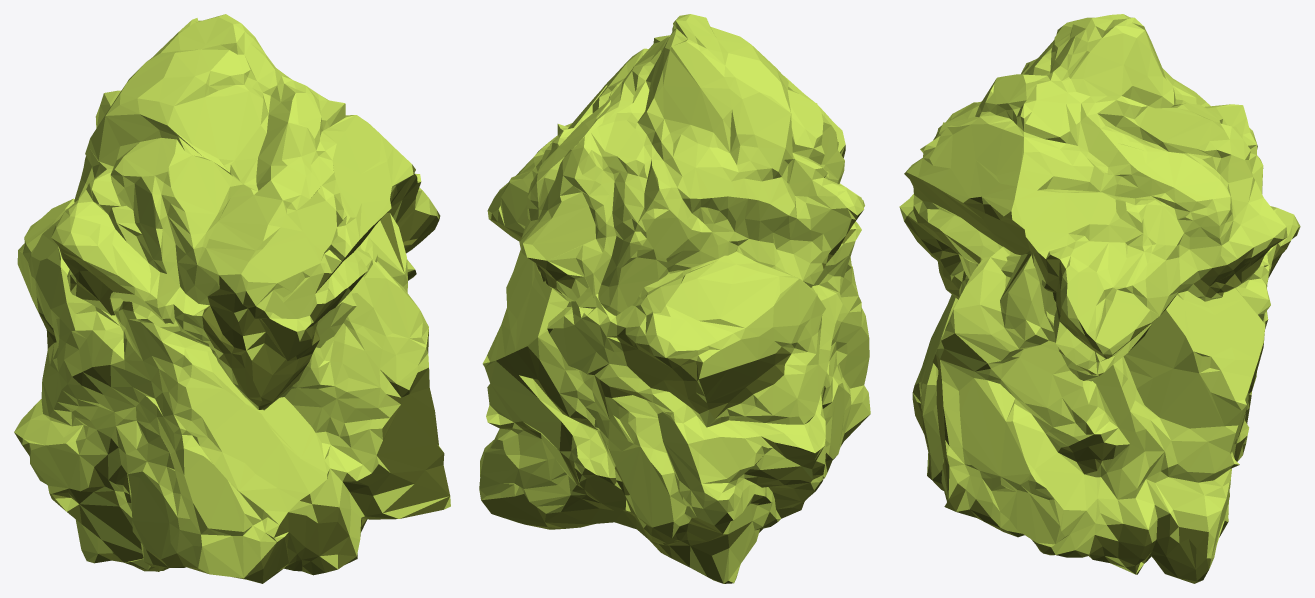
The model's file is tree_gen2_1.fbx.
The picture shows the model from 3 angles, left to right: view 1: azimuth 30°, elevation 25°; view 2: azimuth 150°, elevation 25°; view 3: azimuth 270°, elevation 25°; orthographic projection. The views are drawn at different scales.
Parts seen in each view (by area): view 1: tree2_LOD0; view 2: tree2_LOD0; view 3: tree2_LOD0.
Boxes of the visible parts, x1=… form: tree2_LOD0: x1=14, y1=14, x2=450, y2=583; tree2_LOD0: x1=479, y1=14, x2=870, y2=583; tree2_LOD0: x1=899, y1=14, x2=1300, y2=583.
Size of what is drawn, in the model's own units: 322 by 438 by 310.
